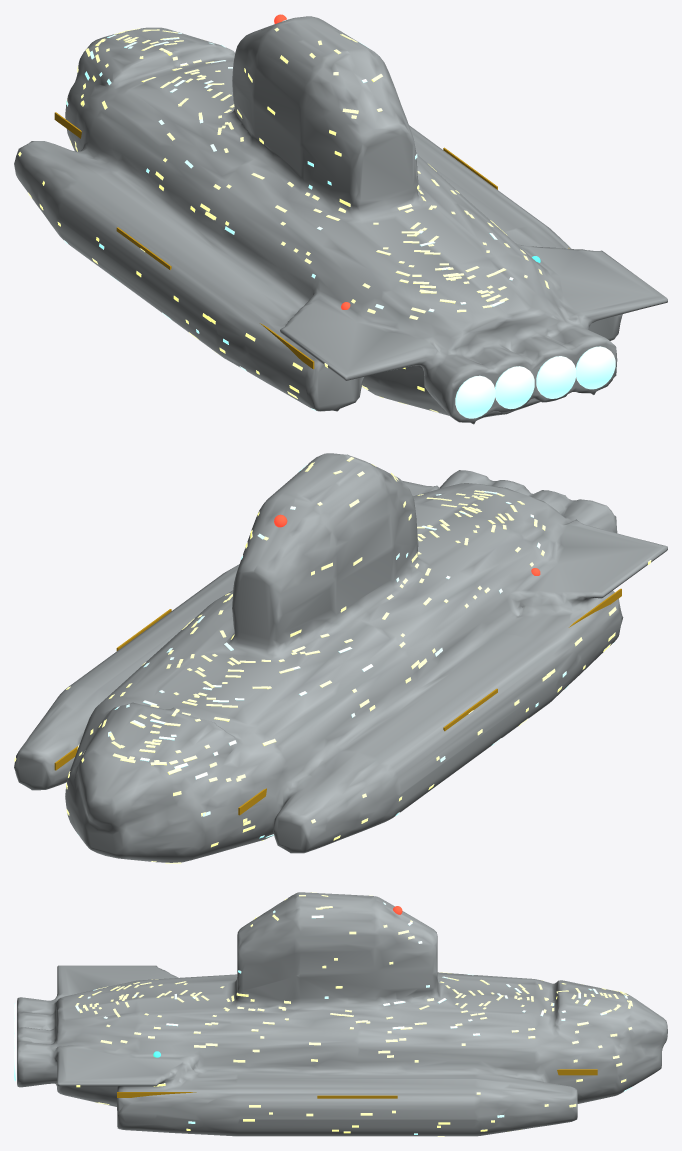
File: warship.glb
3 views of the same model, one above another, from view 1: azimuth 30°, elevation 25°; view 2: azimuth 150°, elevation 25°; view 3: azimuth 270°, elevation 25° (orthographic). The views are drawn at different scales.
Parts seen in each view (by area): view 1: Hull.001, WindowsAmber, EngineGlow9, EngineGlow-26, EngineGlow-9, EngineGlow26, WindowsCyan; view 2: Hull.001, WindowsAmber, WindowsCyan; view 3: Hull.001, WindowsAmber, WindowsCyan.
Boxes of the visible parts, x1=… form: Hull.001: x1=14, y1=16, x2=667, y2=424; WindowsAmber: x1=18, y1=27, x2=549, y2=412; EngineGlow9: x1=536, y1=356, x2=576, y2=398; EngineGlow-26: x1=455, y1=375, x2=495, y2=418; EngineGlow-9: x1=495, y1=366, x2=534, y2=409; EngineGlow26: x1=576, y1=346, x2=615, y2=389; WindowsCyan: x1=64, y1=19, x2=513, y2=411; Hull.001: x1=14, y1=453, x2=667, y2=862; WindowsAmber: x1=14, y1=457, x2=651, y2=863; WindowsCyan: x1=77, y1=464, x2=615, y2=838; Hull.001: x1=17, y1=892, x2=667, y2=1136; WindowsAmber: x1=75, y1=892, x2=632, y2=1136; WindowsCyan: x1=75, y1=902, x2=632, y2=1134.
Bounding box in the file's own units: 148 × 110 × 327.
